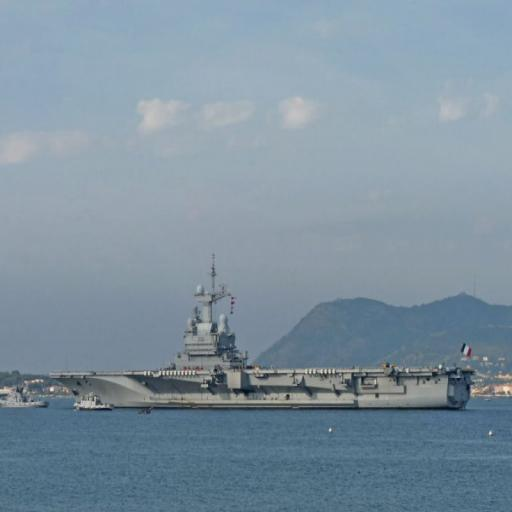Portanaves: (44, 250, 477, 414)
